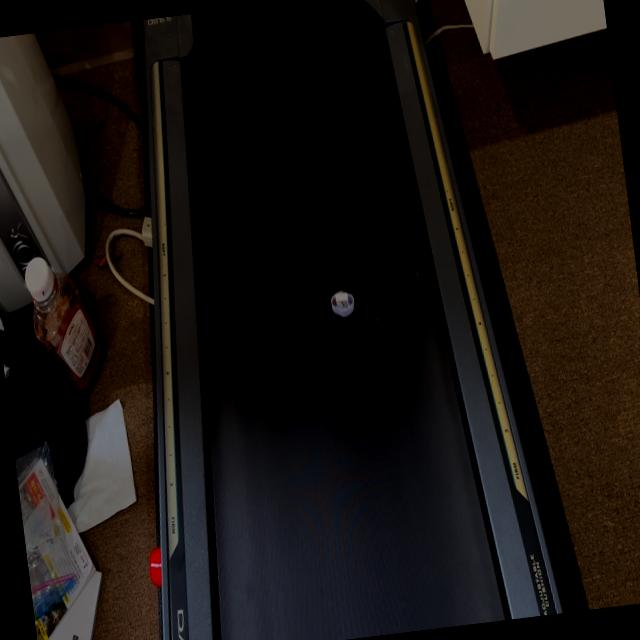Trash: (326, 276, 364, 331)
